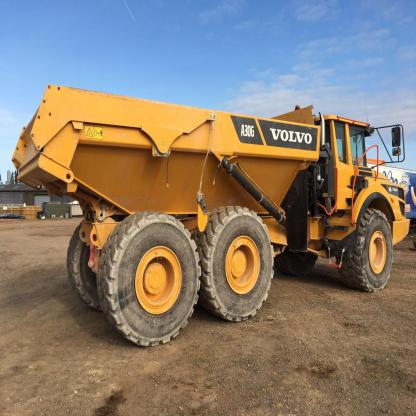dump_truck: (11, 75, 413, 350)
